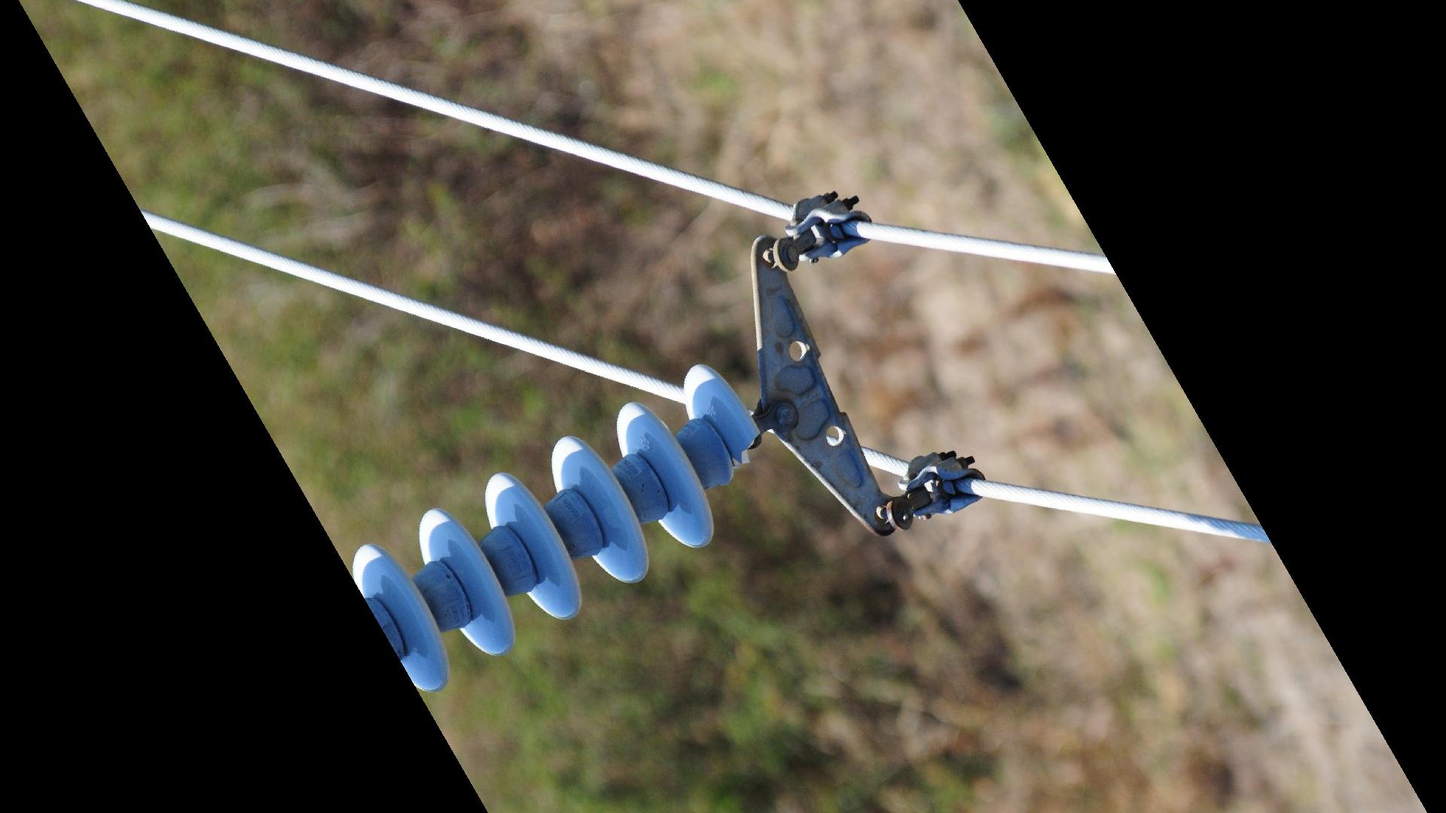insulator: (347, 353, 773, 700)
insulator_breakage: (730, 416, 764, 473)
